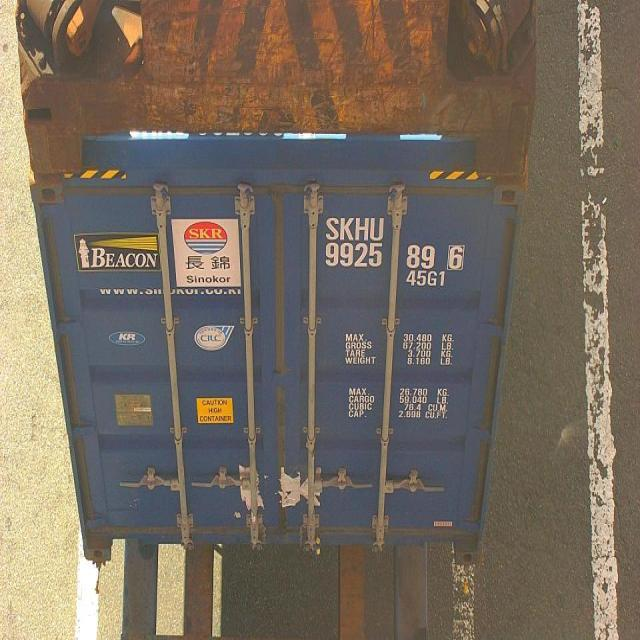ISO: (404, 270, 448, 288)
container_number: (326, 217, 474, 270)
